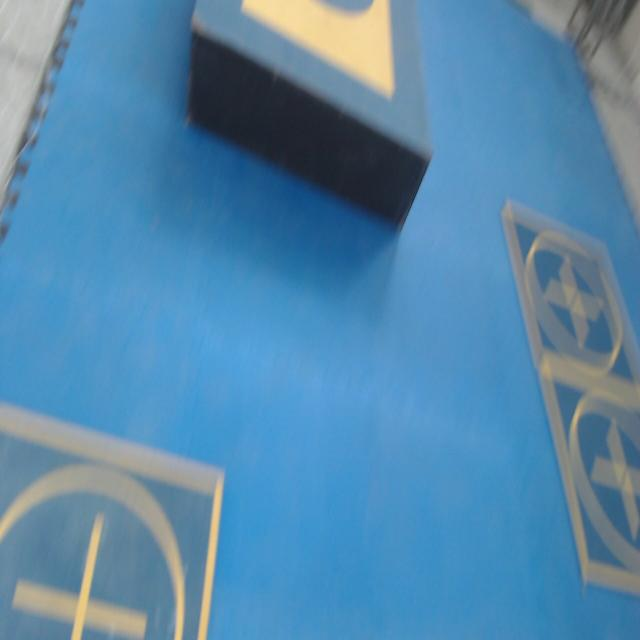base_inicio: (239, 0, 393, 98)
base_pouso: (0, 406, 226, 639), (501, 207, 640, 394), (538, 367, 640, 598)
